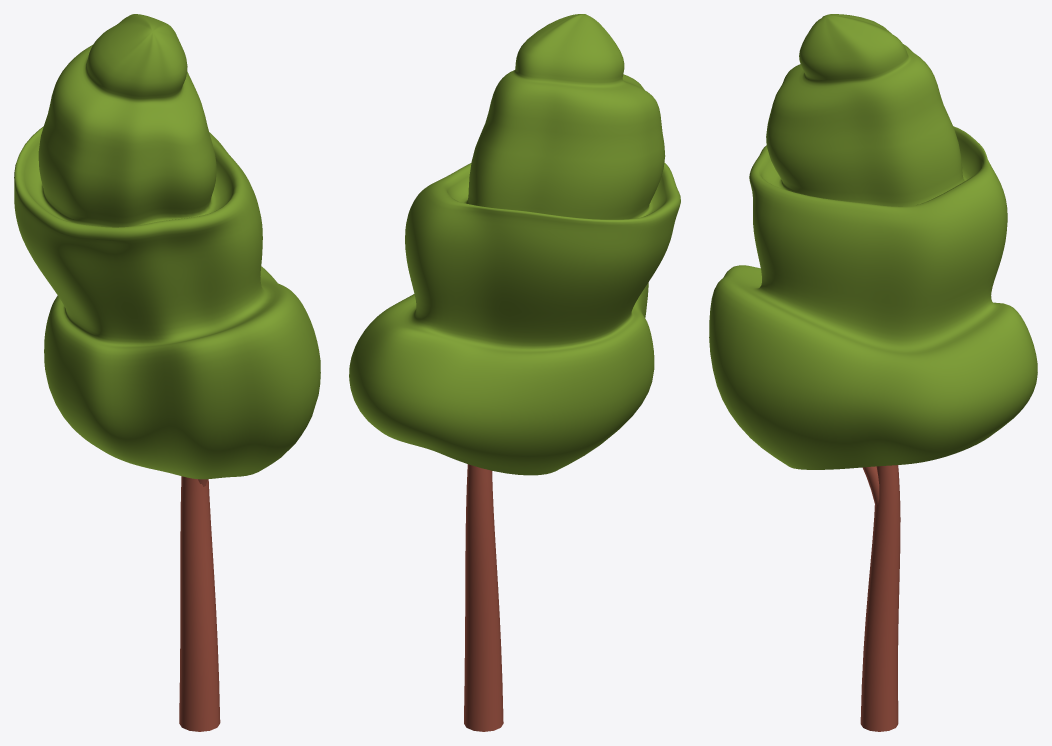
File: tree.fbx
The picture shows the model from 3 angles, left to right: view 1: azimuth 30°, elevation 25°; view 2: azimuth 150°, elevation 25°; view 3: azimuth 270°, elevation 25°; orthographic projection. The views are drawn at different scales.
Parts seen in each view (by area): view 1: SurfCircle, BezierCurve; view 2: SurfCircle, BezierCurve; view 3: SurfCircle, BezierCurve.
Part boxes in pixels (x1,y1,x2,y2): SurfCircle: (14, 14, 320, 479); BezierCurve: (179, 476, 220, 731); SurfCircle: (349, 14, 680, 475); BezierCurve: (464, 464, 503, 731); SurfCircle: (709, 14, 1037, 469); BezierCurve: (860, 465, 900, 731).
Bounding box in the file's own units: 354 × 889 × 392.
